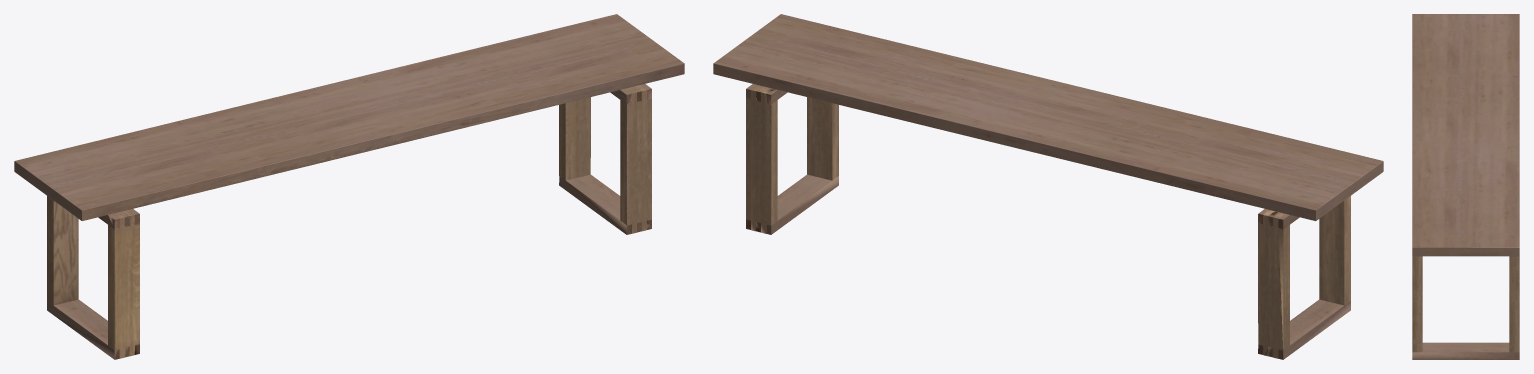
The model's file is morbylanga-banco-chapa-robletinte-marron.glb.
3 renders of one model, left to right at view 1: azimuth 30°, elevation 25°; view 2: azimuth 150°, elevation 25°; view 3: azimuth 270°, elevation 25°, orthographic. The views are drawn at different scales.
Parts seen in each view (by area): view 1: Mesh_0; view 2: Mesh_0; view 3: Mesh_0.
Part boxes in pixels (box(x1,y1,x2,y2)): Mesh_0: box(14, 14, 684, 359); Mesh_0: box(713, 14, 1383, 359); Mesh_0: box(1412, 14, 1519, 359).
Size of the model in its own units: 1.8 by 0.45 by 0.35.
1 material, 1 textured.
